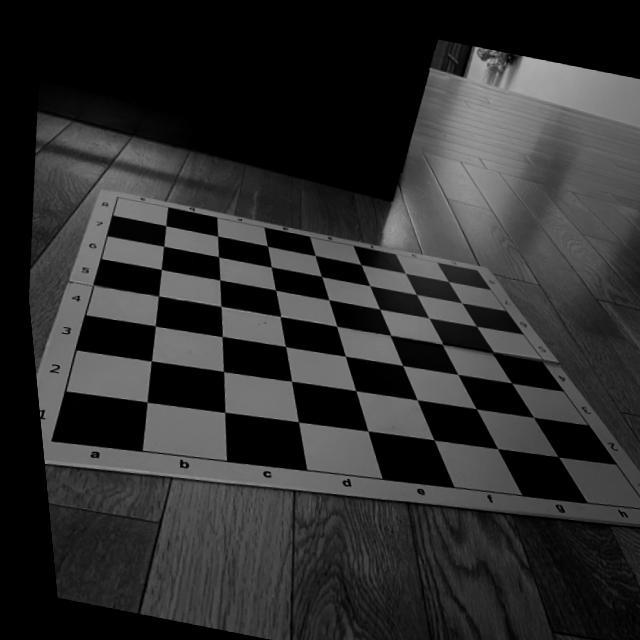chess-table-corners: (34, 436, 56, 450), (103, 190, 122, 203), (466, 260, 480, 271), (632, 496, 640, 508)
